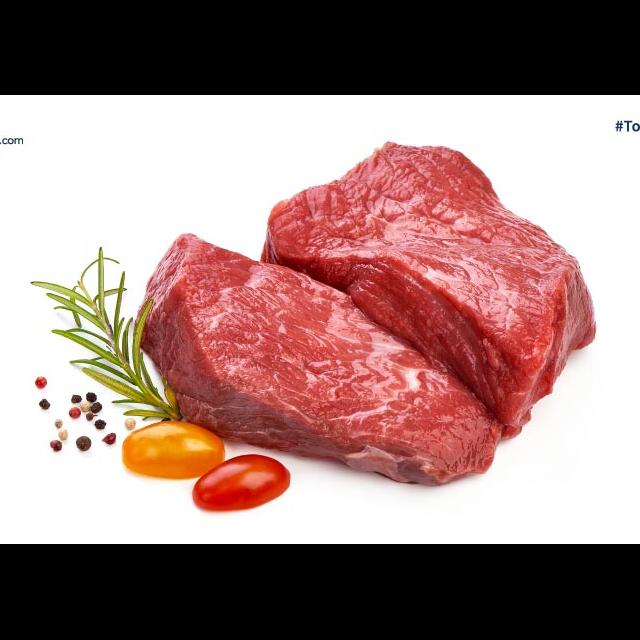beef: (238, 125, 598, 447), (123, 227, 558, 490)
